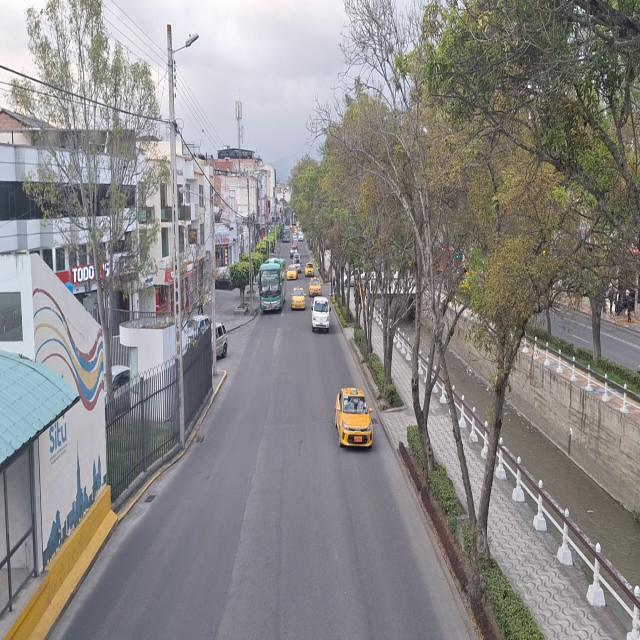BUS: (262, 262, 284, 312)
SED: (337, 392, 373, 447), (290, 289, 304, 311)
TRUCK: (311, 296, 330, 333)
